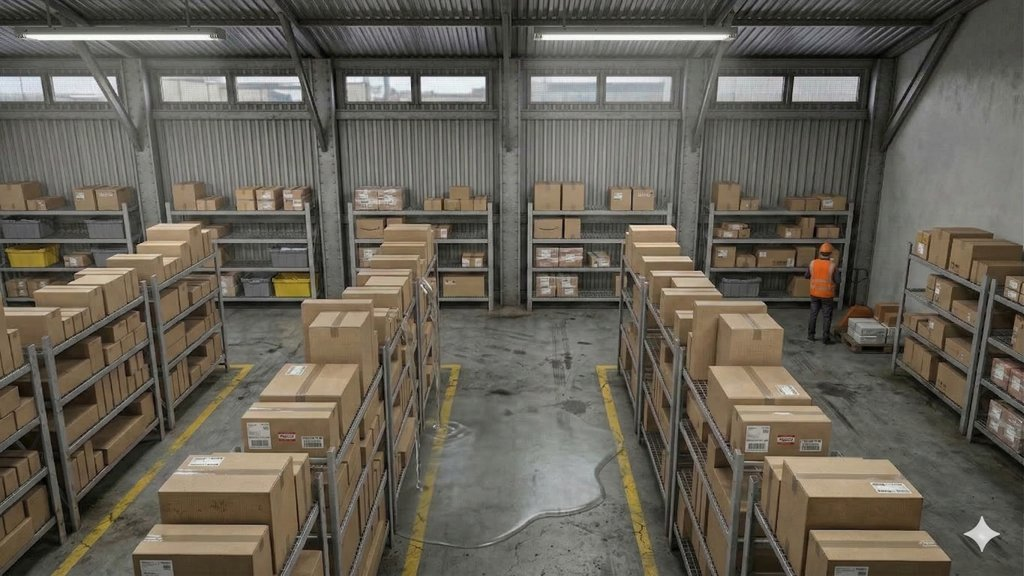empty_shelf: (221, 214, 306, 241), (42, 217, 91, 242), (574, 268, 617, 294), (221, 243, 274, 264), (581, 217, 628, 240), (453, 215, 493, 242), (750, 213, 780, 240), (762, 274, 796, 294)
person: (799, 237, 847, 339)
safety_vest: (806, 253, 837, 301)
spill: (404, 257, 628, 553)
